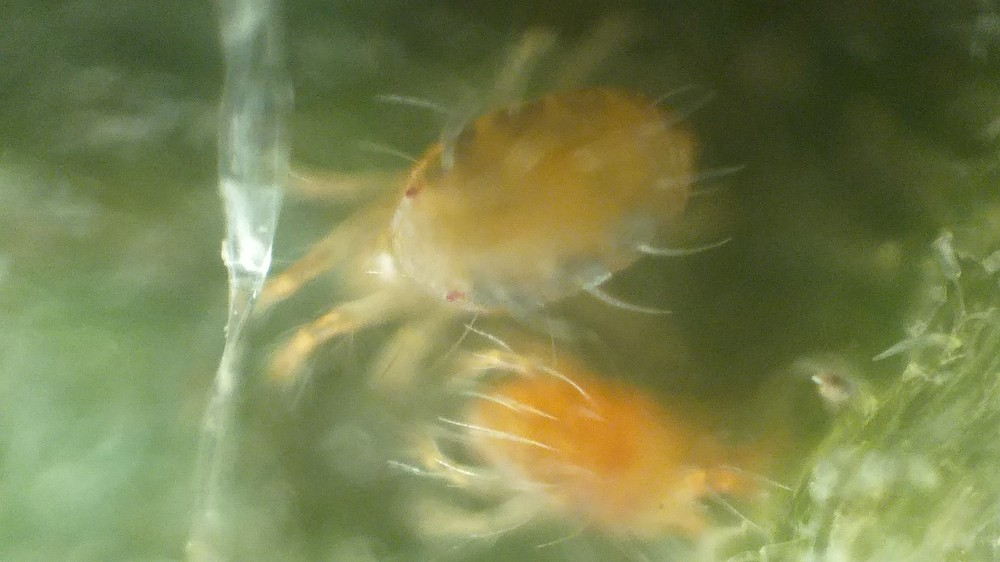Aracnido Rojo: (224, 19, 736, 370), (408, 334, 831, 562)
